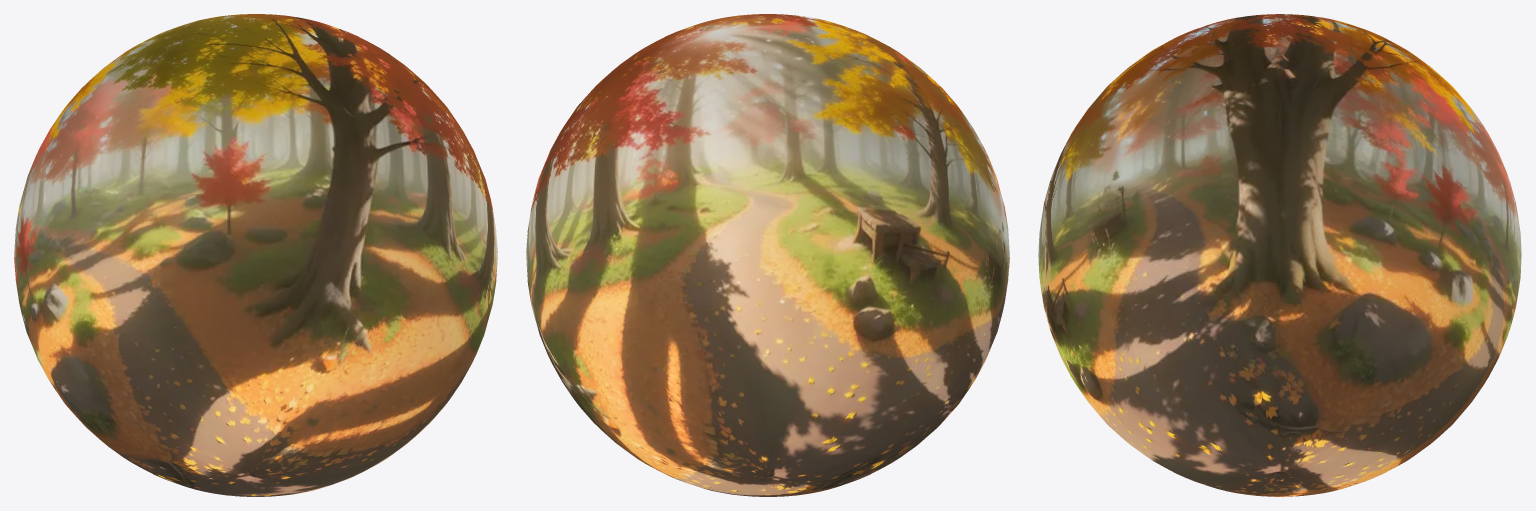
The picture shows the model from 3 angles, left to right: view 1: azimuth 30°, elevation 25°; view 2: azimuth 150°, elevation 25°; view 3: azimuth 270°, elevation 25°; orthographic projection.
Parts seen in each view (by area): view 1: Sphere__0; view 2: Sphere__0; view 3: Sphere__0.
Boxes of the visible parts, bbox=[...] form: Sphere__0: bbox=[14, 14, 497, 496]; Sphere__0: bbox=[526, 14, 1009, 496]; Sphere__0: bbox=[1038, 14, 1521, 496].
Bounding box in the file's own units: 1000 × 1000 × 1000.
Materials: 1 (1 with a texture image).
